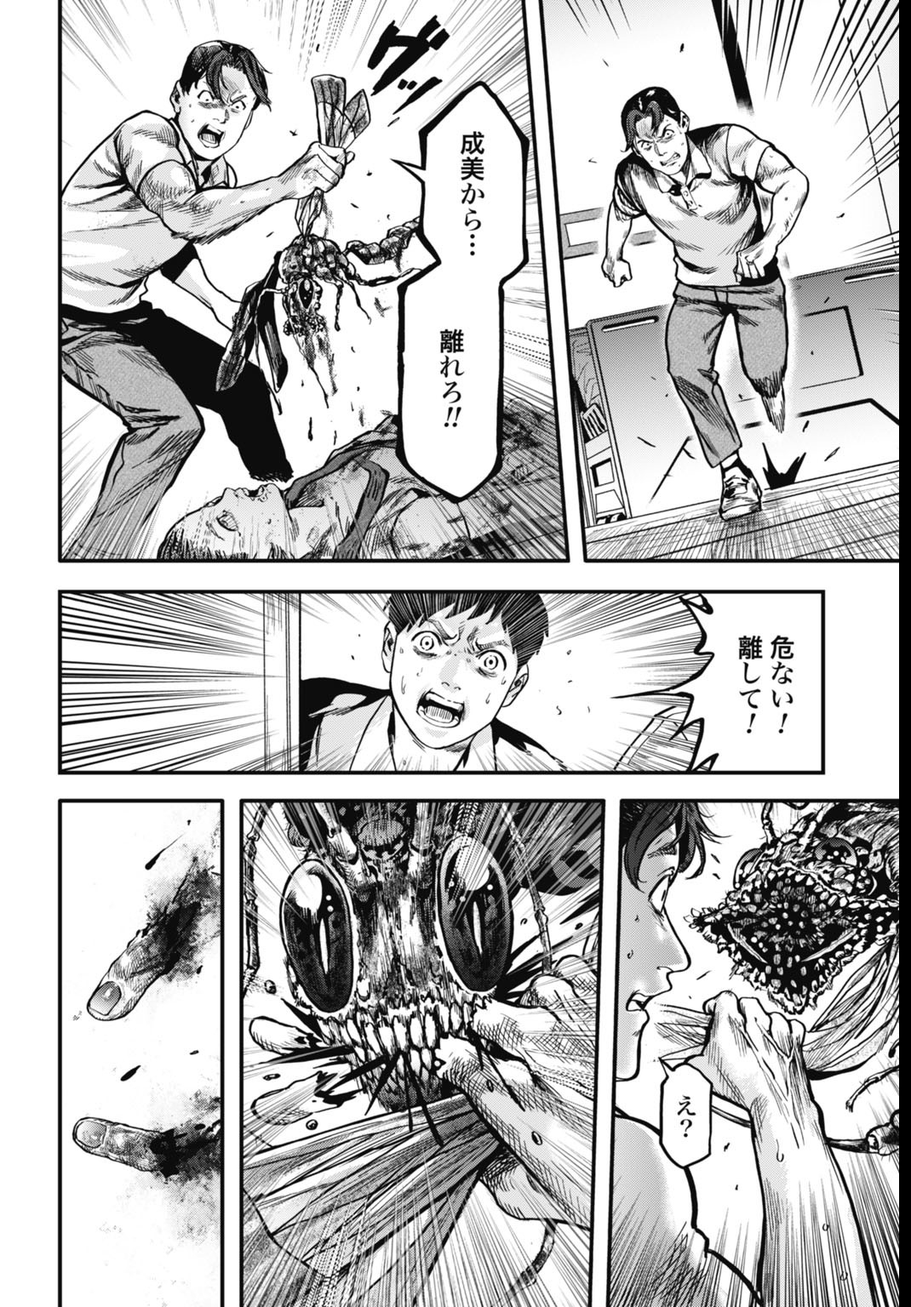bubbles: (375, 71, 532, 511), (667, 581, 830, 779), (653, 1053, 722, 1172)
